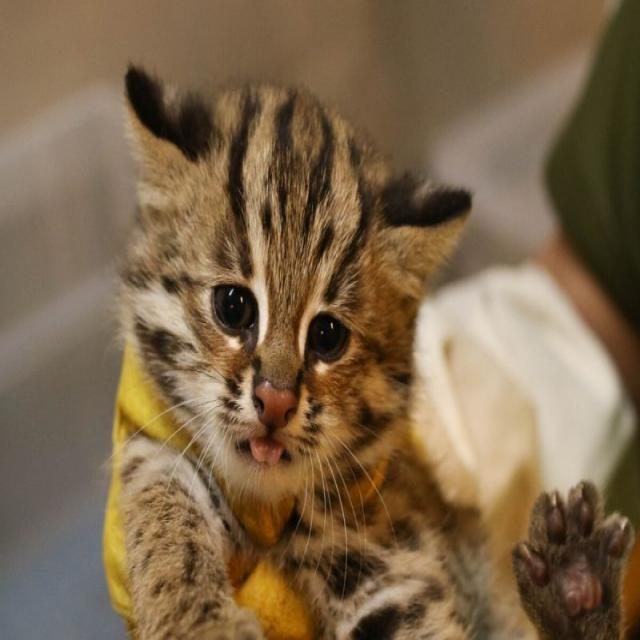leopard: (106, 60, 458, 607)
